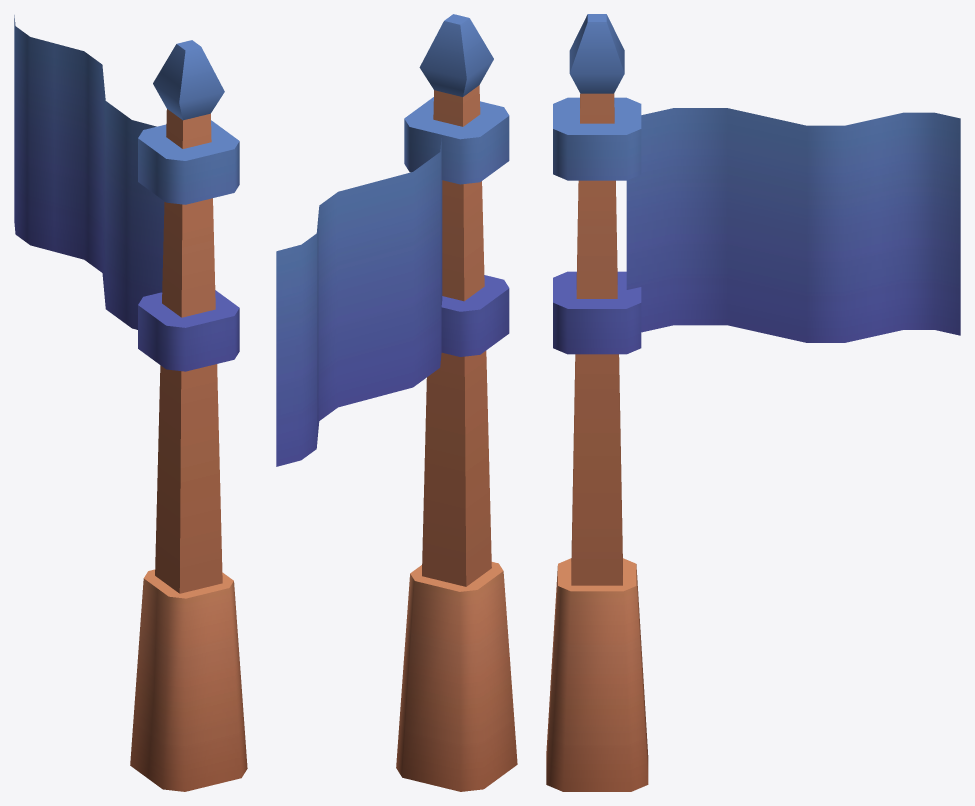
The model's file is flagga.glb.
The picture shows the model from 3 angles, left to right: view 1: azimuth 30°, elevation 25°; view 2: azimuth 150°, elevation 25°; view 3: azimuth 270°, elevation 25°; orthographic projection. The views are drawn at different scales.
Parts seen in each view (by area): view 1: flag; view 2: flag; view 3: flag.
Part boxes in pixels (left/top/right/bottom): flag: left=14, top=15, right=247, bottom=791; flag: left=276, top=14, right=517, bottom=791; flag: left=546, top=14, right=960, bottom=791.
Size of the model in its own units: 0.1064 by 0.8656 by 0.4323.
1 material, 1 textured.
